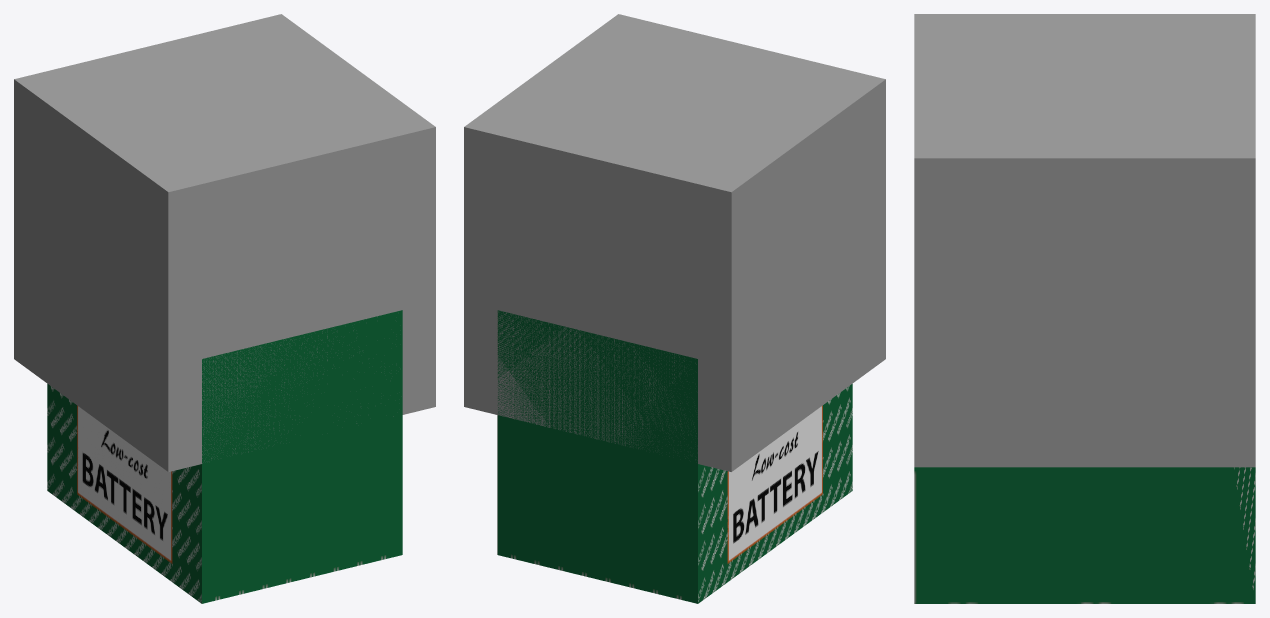
File: LowCostBattery2.obj
3 renders of one model, left to right at view 1: azimuth 30°, elevation 25°; view 2: azimuth 150°, elevation 25°; view 3: azimuth 270°, elevation 25°, orthographic. The views are drawn at different scales.
Visible parts, largest first — view 1: Minecraft_Block_Cube, Battery, Minecraft_2_Edge_Connectivity_Cube.002; view 2: Minecraft_Block_Cube, Battery, Minecraft_2_Edge_Connectivity_Cube.002; view 3: Minecraft_Block_Cube, Battery.
Boxes of the visible parts, box(x1,y1,x2,y2) form: Minecraft_Block_Cube: box(14, 14, 435, 471); Battery: box(47, 310, 402, 603); Minecraft_2_Edge_Connectivity_Cube.002: box(169, 300, 435, 471); Minecraft_Block_Cube: box(464, 14, 885, 471); Battery: box(497, 310, 852, 603); Minecraft_2_Edge_Connectivity_Cube.002: box(464, 300, 730, 471); Minecraft_Block_Cube: box(914, 14, 1255, 467); Battery: box(914, 467, 1255, 603).
Size of the model in its own units: 1 by 1.5 by 1.
2 materials, 1 textured.
